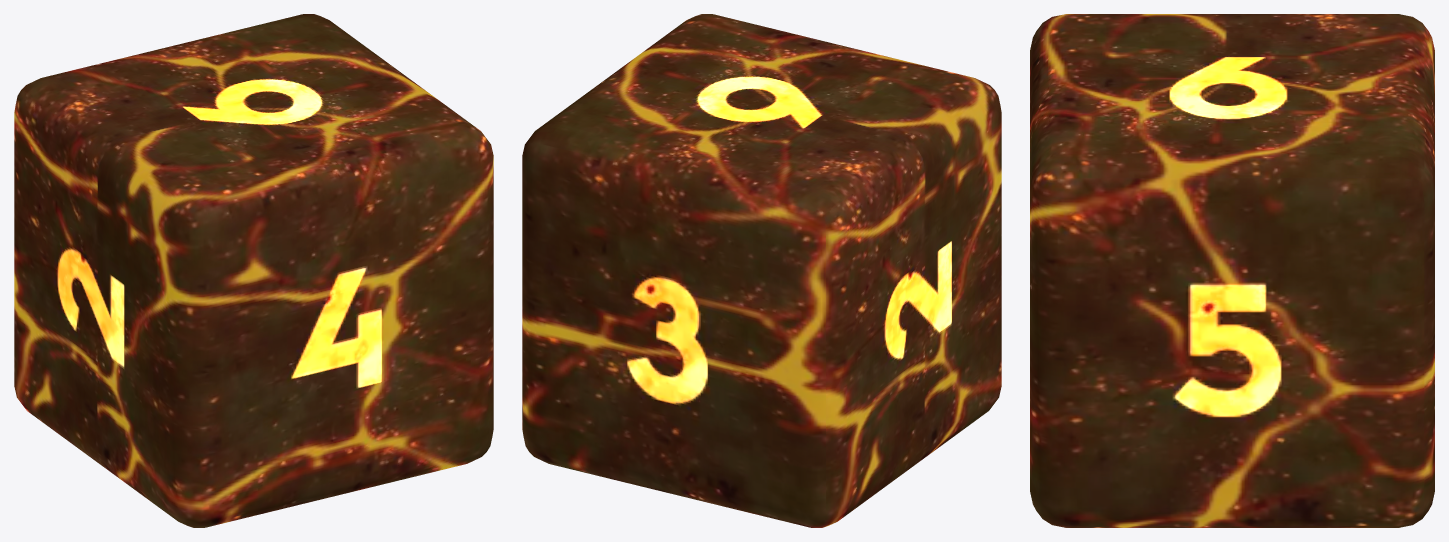
The model's file is magma20_d6.gltf.
3 renders of one model, left to right at view 1: azimuth 30°, elevation 25°; view 2: azimuth 150°, elevation 25°; view 3: azimuth 270°, elevation 25°, orthographic. The views are drawn at different scales.
Parts seen in each view (by area): view 1: dice_6; view 2: dice_6; view 3: dice_6.
Part boxes in pixels (box(x1,y1,x2,y2)): dice_6: box(14, 14, 493, 527); dice_6: box(522, 14, 1001, 527); dice_6: box(1030, 14, 1434, 527).
Bounding box in the file's own units: 104 × 104 × 104.
1 material, 1 textured.
